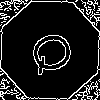Q: (25, 25, 85, 79)
